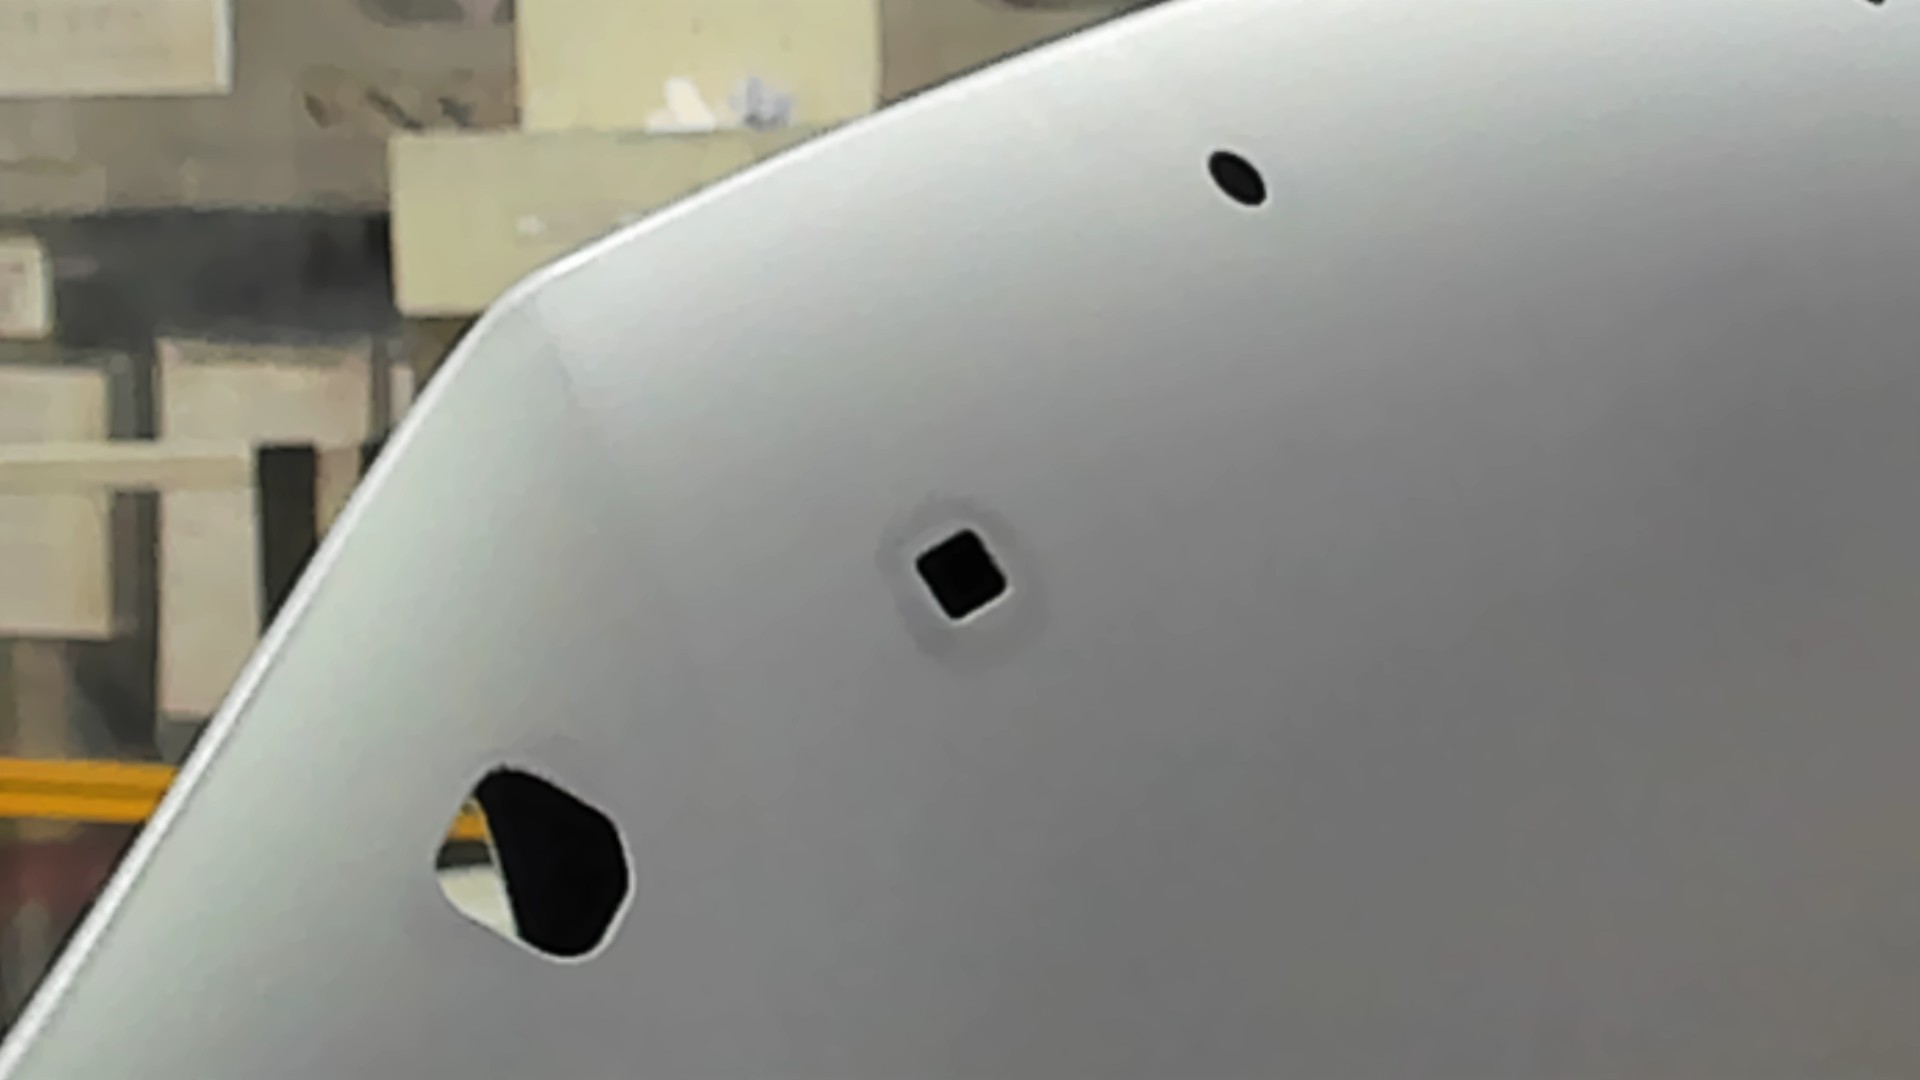chico: (1207, 145, 1267, 211)
grande: (429, 760, 638, 964)
mediano: (911, 524, 1009, 624)
